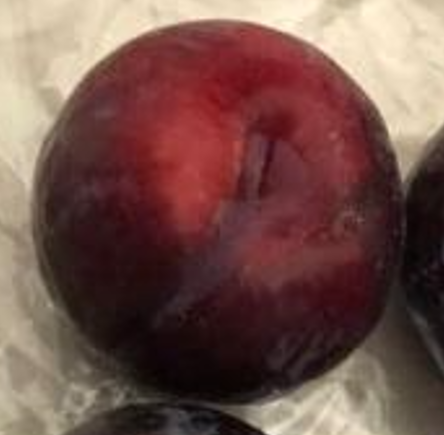plum_A: (32, 19, 408, 404)
